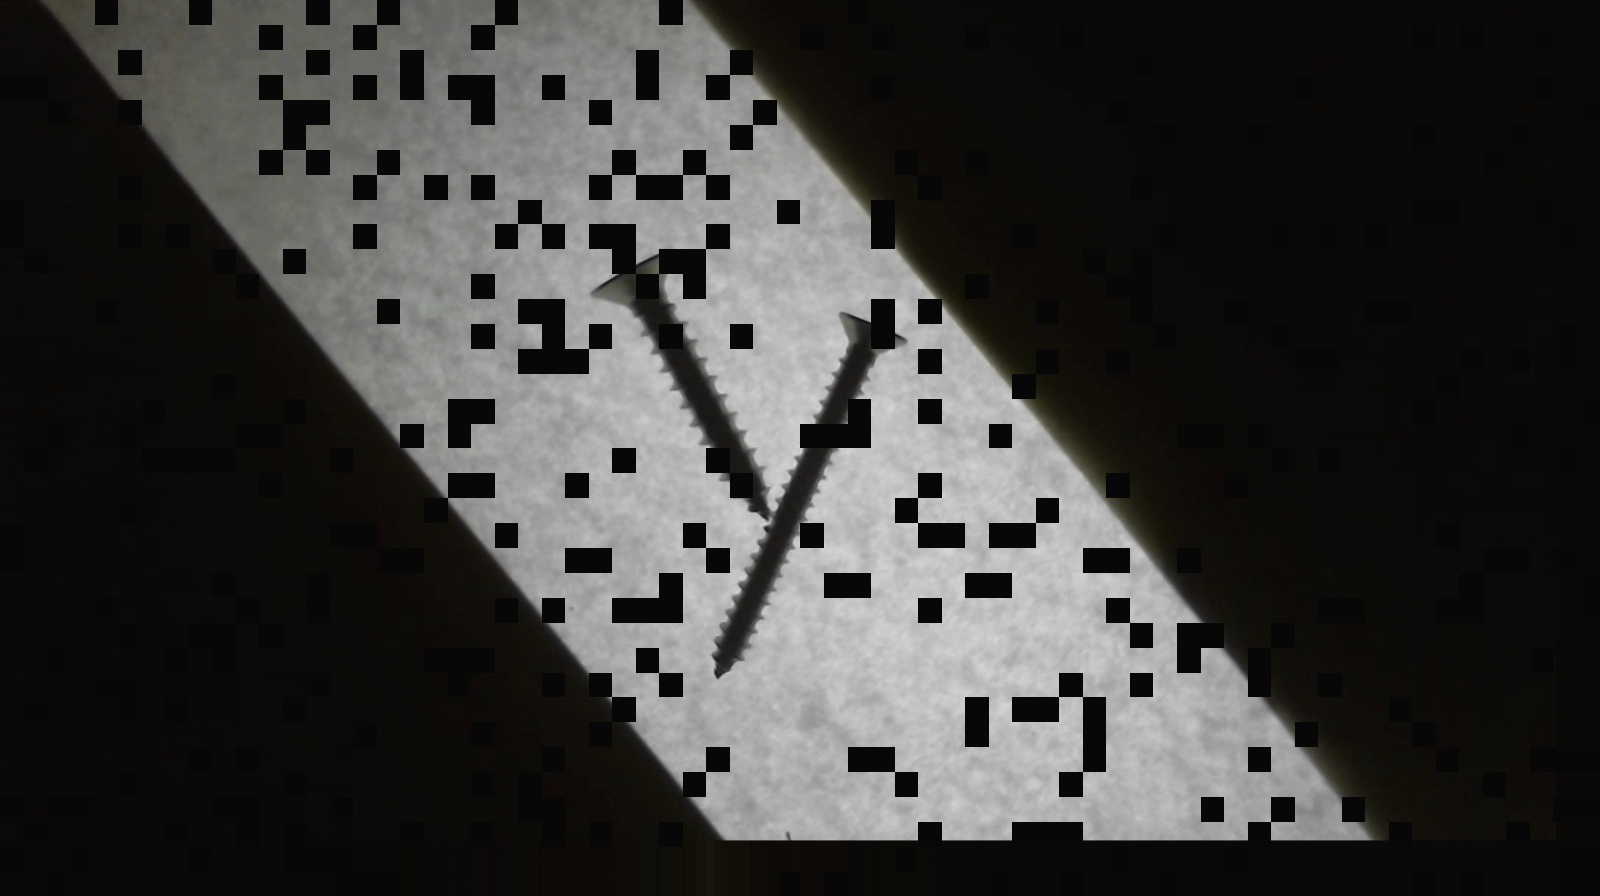S001: (584, 246, 776, 524)
S002: (704, 305, 907, 679)
